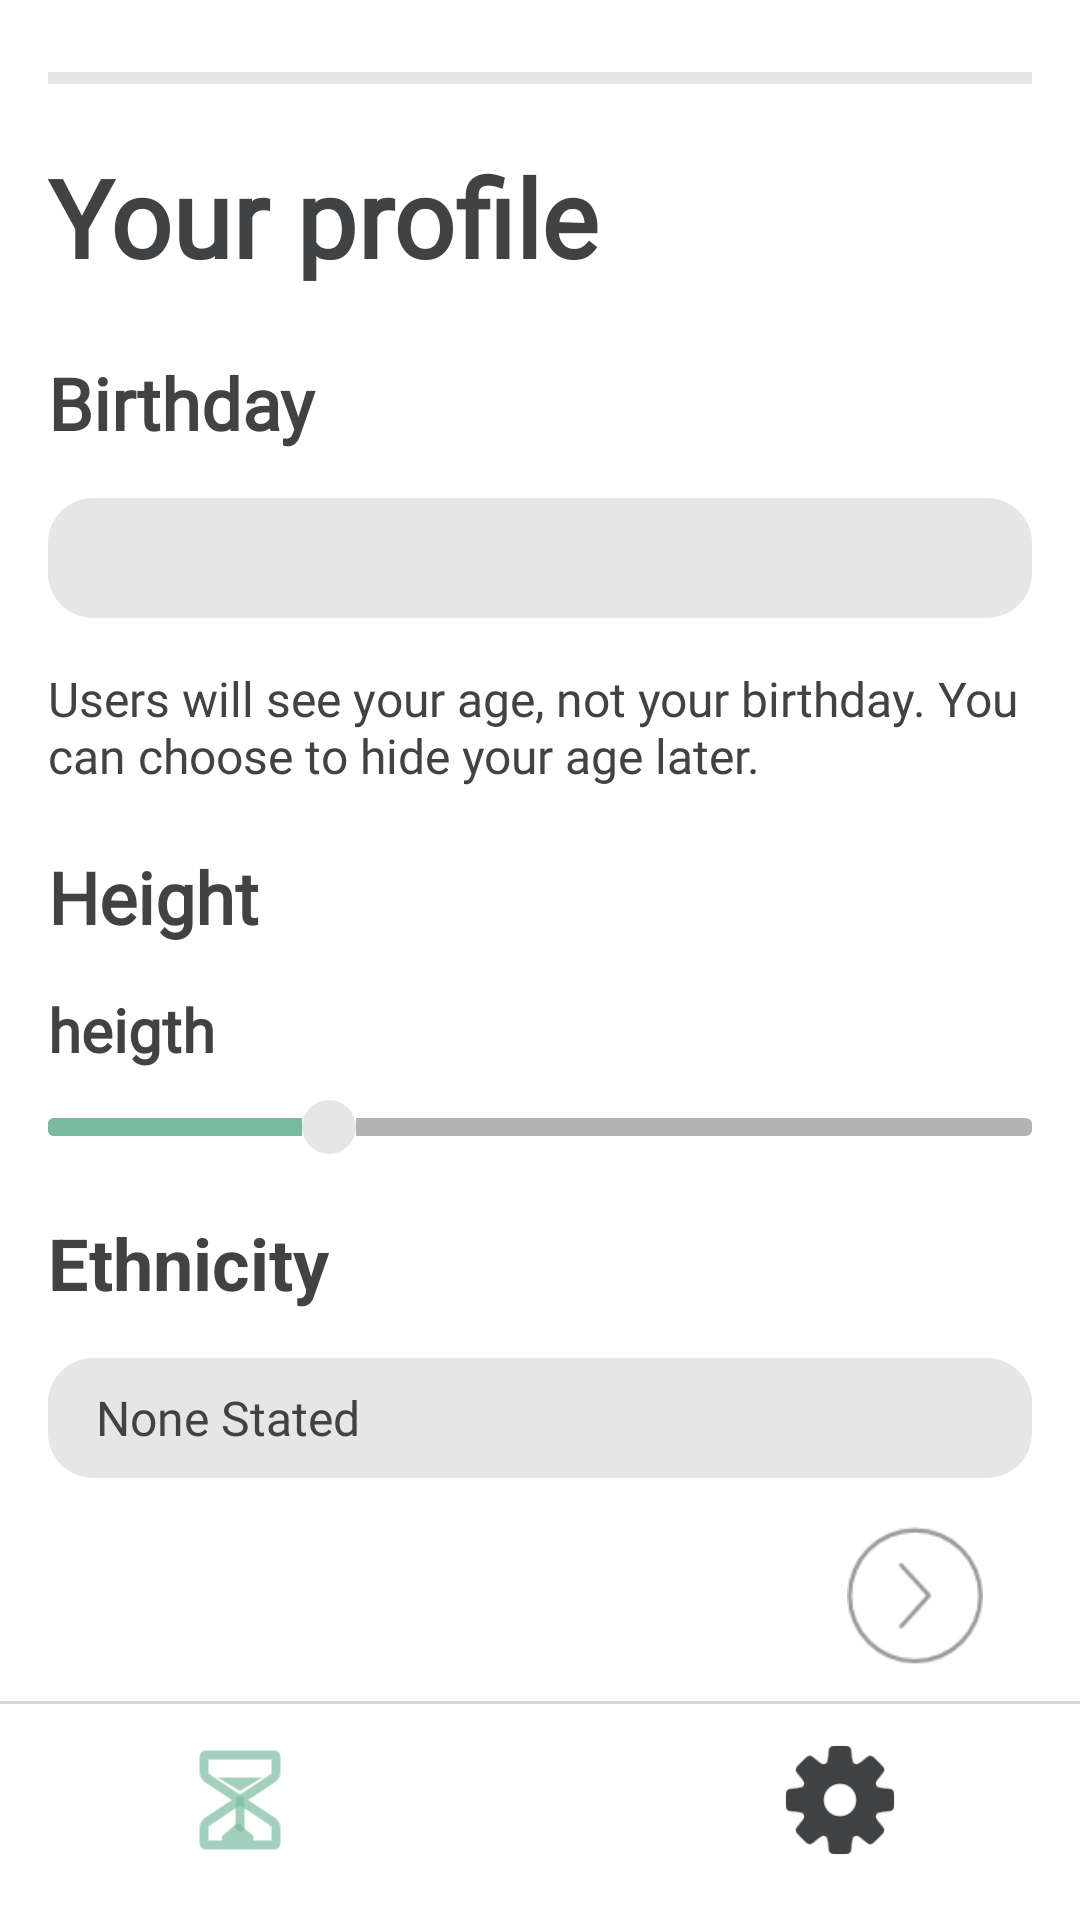

Locate icon controls on the screen. Image size 1080w x 1920h, boxes as (x1, y1, x2, y2).
next: (847, 1527, 983, 1664)
